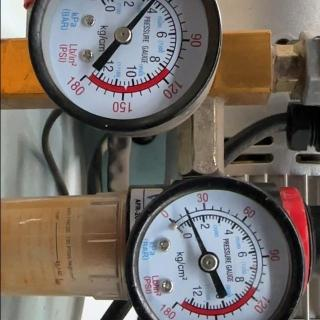gauge: (0, 0, 224, 138), (123, 178, 310, 320), (197, 252, 219, 272), (161, 210, 181, 232), (71, 69, 93, 87), (164, 297, 184, 315), (114, 26, 132, 44), (182, 206, 190, 214)
